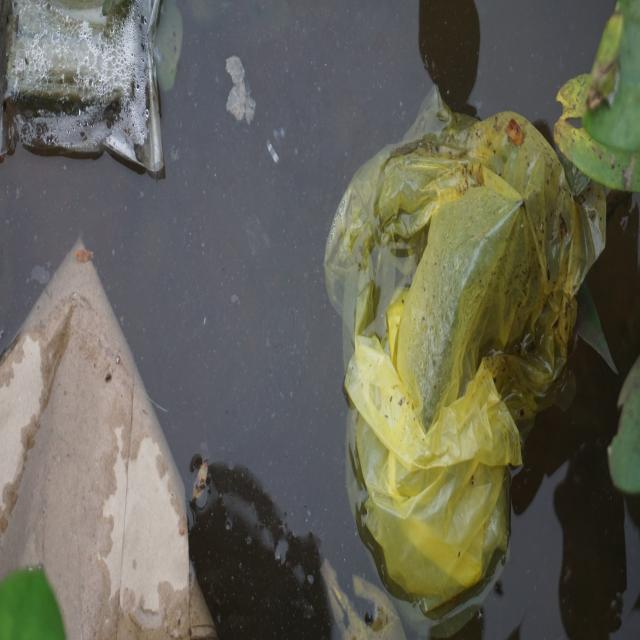Kantong Plastik: (323, 75, 609, 607), (1, 2, 169, 171)
